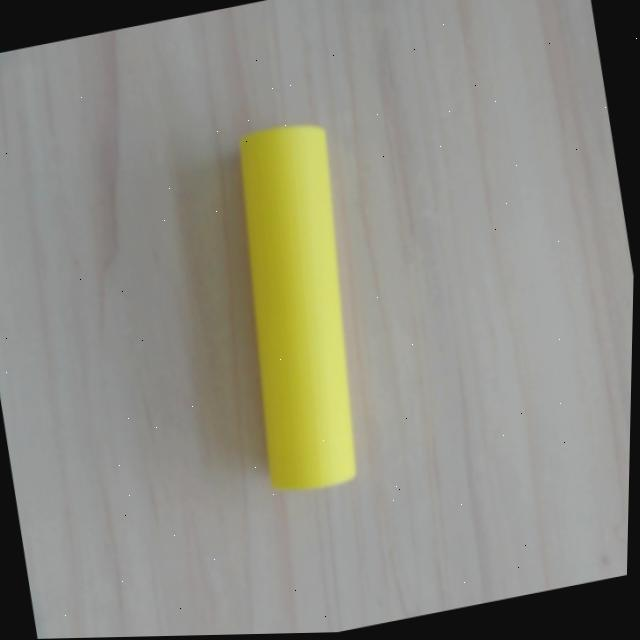Silinder-Kuning-10025: (239, 122, 357, 491)
